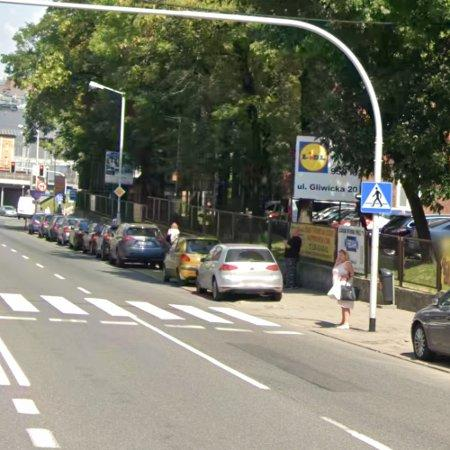crosswalks: (0, 289, 287, 324)
